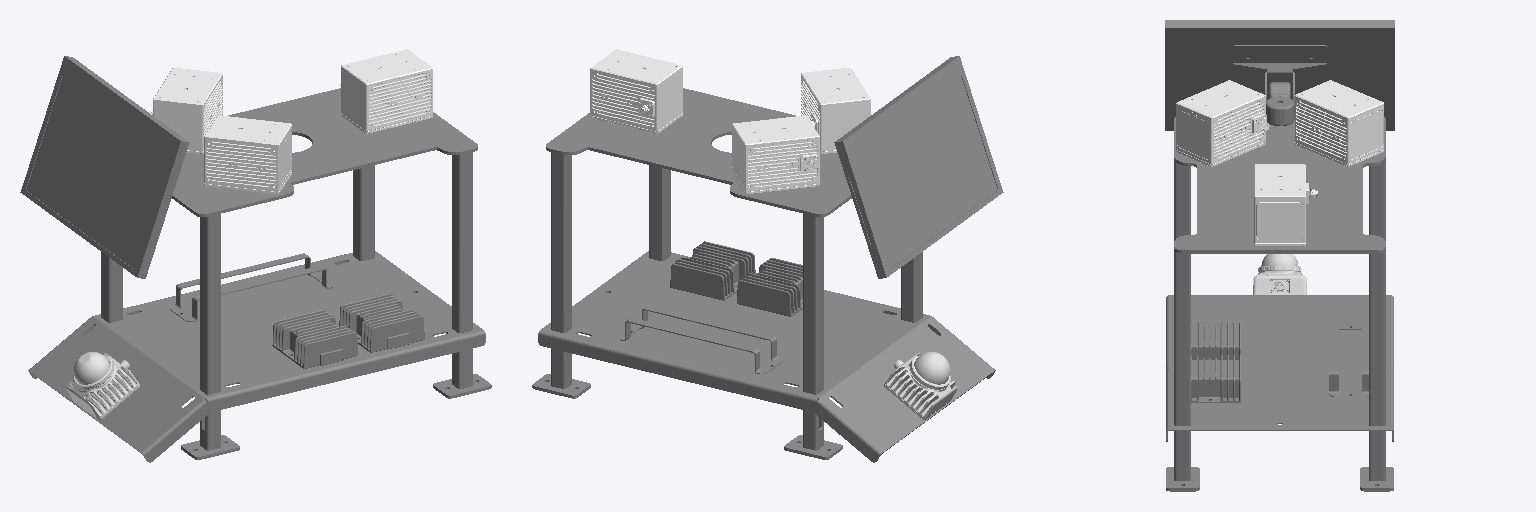
URDF robot description (bunker_mini):
<?xml version="1.0"?>
<robot  name="bunker_mini">
 
  <link
    name="bunker_link">
    <visual>
      <origin
        xyz="0.53 -0.392 -0.358"
        rpy="1.57 0 3.14" />
      <geometry>
        <mesh
          filename="package://dlio_loc/meshes/BUNKER.STL" scale="0.001 0.001 0.001" />
      </geometry>
      <material
        name="Gray">
        <color
          rgba="0.3 0.3 0.3 1" />
      </material>
    </visual>
  </link>

 <link
    name="wheel1_Link">
    <visual>
      <origin
        xyz="0 0 0"
        rpy="0 0 0" />
      <geometry>
        <mesh
          filename="package://dlio_loc/meshes/wheel1_Link.STL" />
      </geometry>
      <material
        name="">
        <color
          rgba="1 1 1 1" />
      </material>
    </visual>
</link>

<joint
    name="wheel1_joint"
    type="fixed">
    <origin
      xyz="0.44403 0.3495 -0.12853"
      rpy="1.5708 0 -3.1416" />
    <parent
      link="bunker_link" />
    <child
      link="wheel1_Link" />
    <axis
      xyz="0 0 1" />
  </joint>


<link
    name="wheel1_1_Link">
    <visual>
      <origin
        xyz="0 0 0"
        rpy="0 0 0" />
      <geometry>
        <mesh
          filename="package://dlio_loc/meshes/wheel1.1_Link.STL" />
      </geometry>
      <material
        name="">
        <color
          rgba="1 1 1 1" />
      </material>
    </visual>
</link>

<joint
    name="wheel1_1_jont"
    type="fixed">
    <origin
      xyz="0.37551 0.3495 -0.22305"
      rpy="1.5708 0 -3.1416" />
    <parent
      link="bunker_link" />
    <child
      link="wheel1_1_Link" />
    <axis
      xyz="0 0 1" />
</joint>


<link
    name="wheel1_2_Link">
    <visual>
      <origin
        xyz="0 0 0"
        rpy="0 0 0" />
      <geometry>
        <mesh
          filename="package://dlio_loc/meshes/wheel1.2_Link.STL" />
      </geometry>
      <material
        name="">
        <color
          rgba="1 1 1 1" />
      </material>
    </visual>
</link>

<joint
    name="wheel1_2_joint"
    type="fixed">
    <origin
      xyz="0.29039 0.3495 -0.28104"
      rpy="1.5708 0 -3.1416" />
    <parent
      link="bunker_link" />
    <child
      link="wheel1_2_Link" />
    <axis
      xyz="0 0 1" />
  </joint>

<link
    name="wheel1_3_Link">

    <visual>
      <origin
        xyz="0 0 0"
        rpy="0 0 0" />
      <geometry>
        <mesh
          filename="package://dlio_loc/meshes/wheel1.3_Link.STL" />
      </geometry>
      <material
        name="">
        <color
          rgba="1 1 1 1" />
      </material>
    </visual>

  </link>
  <joint
    name="wheel1_3_joint"
    type="fixed">
    <origin
      xyz="0.29603 0.3495 -0.087"
      rpy="1.5708 0 -3.1416" />
    <parent
      link="bunker_link" />
    <child
      link="wheel1_3_Link" />
    <axis
      xyz="0 0 -1" />

  </joint>
  <link
    name="wheel2_Link">

    <visual>
      <origin
        xyz="0 0 0"
        rpy="0 0 0" />
      <geometry>
        <mesh
          filename="package://dlio_loc/meshes/wheel2_Link.STL" />
      </geometry>
      <material
        name="">
        <color
          rgba="1 1 1 1" />
      </material>
    </visual>

  </link>
  <joint
    name="wheel2_joint"
    type="fixed">
    <origin
      xyz="0.44403 -0.3495 -0.12853"
      rpy="1.5708 0 -3.1416" />
    <parent
      link="bunker_link" />
    <child
      link="wheel2_Link" />
    <axis
      xyz="0 0 -1" />

  </joint>
  <link
    name="wheel2_1_Link">

    <visual>
      <origin
        xyz="0 0 0"
        rpy="0 0 0" />
      <geometry>
        <mesh
          filename="package://dlio_loc/meshes/wheel2.1_Link.STL" />
      </geometry>
      <material
        name="">
        <color
          rgba="1 1 1 1" />
      </material>
    </visual>

  </link>
  <joint
    name="wheel2_1_joint"
    type="fixed">
    <origin
      xyz="0.37551 -0.3495 -0.22305"
      rpy="1.5708 0 -3.1416" />
    <parent
      link="bunker_link" />
    <child
      link="wheel2_1_Link" />
    <axis
      xyz="0 0 -1" />

  </joint>
  <link
    name="wheel2_2_Link">

    <visual>
      <origin
        xyz="0 0 0"
        rpy="0 0 0" />
      <geometry>
        <mesh
          filename="package://dlio_loc/meshes/wheel2.2_Link.STL" />
      </geometry>
      <material
        name="">
        <color
          rgba="1 1 1 1" />
      </material>
    </visual>

  </link>
  <joint
    name="wheel2_2_joint"
    type="fixed">
    <origin
      xyz="0.29039 -0.3495 -0.28104"
      rpy="1.5708 0 -3.1416" />
    <parent
      link="bunker_link" />
    <child
      link="wheel2_2_Link" />
    <axis
      xyz="0 0 -1" />

  </joint>
  <link
    name="wheel2.3_Link">

    <visual>
      <origin
        xyz="0 0 0"
        rpy="0 0 0" />
      <geometry>
        <mesh
          filename="package://dlio_loc/meshes/wheel2.3_Link.STL" />
      </geometry>
      <material
        name="">
        <color
          rgba="1 1 1 1" />
      </material>
    </visual>

  </link>
  <joint
    name="wheel2.3_joint"
    type="fixed">
    <origin
      xyz="0.29603 -0.3495 -0.087"
      rpy="1.5708 0 -3.1416" />
    <parent
      link="bunker_link" />
    <child
      link="wheel2.3_Link" />
    <axis
      xyz="0 0 1" />

  </joint>
  <link
    name="wheel3_Link">

    <visual>
      <origin
        xyz="0 0 0"
        rpy="0 0 0" />
      <geometry>
        <mesh
          filename="package://dlio_loc/meshes/wheel3_Link.STL" />
      </geometry>
      <material
        name="">
        <color
          rgba="1 1 1 1" />
      </material>
    </visual>

  </link>
  <joint
    name="wheel3_joint"
    type="fixed">
    <origin
      xyz="-0.38871 0.295 -0.19381"
      rpy="1.5708 0 -3.1416" />
    <parent
      link="bunker_link" />
    <child
      link="wheel3_Link" />
    <axis
      xyz="0 0 -1" />

  </joint>
  <link
    name="wheel3.1_Link">

    <visual>
      <origin
        xyz="0 0 0"
        rpy="0 0 0" />
      <geometry>
        <mesh
          filename="package://dlio_loc/meshes/wheel3.1_Link.STL" />
      </geometry>
      <material
        name="">
        <color
          rgba="1 1 1 1" />
      </material>
    </visual>

  </link>
  <joint
    name="wheel3.1_joint"
    type="fixed">
    <origin
      xyz="-0.23111 0.3495 -0.27671"
      rpy="1.5708 0 -3.1416" />
    <parent
      link="bunker_link" />
    <child
      link="wheel3.1_Link" />
    <axis
      xyz="0 0 1" />

  </joint>
  <link
    name="wheel3.2_Link">

    <visual>
      <origin
        xyz="0 0 0"
        rpy="0 0 0" />
      <geometry>
        <mesh
          filename="package://dlio_loc/meshes/wheel3.2_Link.STL" />
      </geometry>
      <material
        name="">
        <color
          rgba="1 1 1 1" />
      </material>
    </visual>

  </link>
  <joint
    name="wheel3.2_joint"
    type="fixed">
    <origin
      xyz="0.043885 0.3495 -0.27671"
      rpy="1.5708 0 -3.1416" />
    <parent
      link="bunker_link" />
    <child
      link="wheel3.2_Link" />
    <axis
      xyz="0 0 1" />

  </joint>
  <link
    name="wheel3.3_Link">

    <visual>
      <origin
        xyz="0 0 0"
        rpy="0 0 0" />
      <geometry>
        <mesh
          filename="package://dlio_loc/meshes/wheel3.3_Link.STL" />
      </geometry>
      <material
        name="">
        <color
          rgba="1 1 1 1" />
      </material>
    </visual>

  </link>
  <joint
    name="wheel3.3_joint"
    type="fixed">
    <origin
      xyz="-0.28597 0.3495 -0.087"
      rpy="1.5708 0 -3.1416" />
    <parent
      link="bunker_link" />
    <child
      link="wheel3.3_Link" />
    <axis
      xyz="0 0 -1" />

  </joint>
  <link
    name="wheel4_Link">

    <visual>
      <origin
        xyz="0 0 0"
        rpy="0 0 0" />
      <geometry>
        <mesh
          filename="package://dlio_loc/meshes/wheel4_Link.STL" />
      </geometry>
      <material
        name="">
        <color
          rgba="1 1 1 1" />
      </material>
    </visual>

  </link>
  <joint
    name="wheel4_joint"
    type="fixed">
    <origin
      xyz="-0.38871 -0.295 -0.19381"
      rpy="1.5708 0 -3.1416" />
    <parent
      link="bunker_link" />
    <child
      link="wheel4_Link" />
    <axis
      xyz="0 0 1" />

  </joint>
  <link
    name="wheel4.1_Link">

    <visual>
      <origin
        xyz="0 0 0"
        rpy="0 0 0" />
      <geometry>
        <mesh
          filename="package://dlio_loc/meshes/wheel4.1_Link.STL" />
      </geometry>
      <material
        name="">
        <color
          rgba="1 1 1 1" />
      </material>
    </visual>

  </link>
  <joint
    name="wheel4.1_joint"
    type="fixed">
    <origin
      xyz="-0.23111 -0.3495 -0.27671"
      rpy="1.5708 0 -3.1416" />
    <parent
      link="bunker_link" />
    <child
      link="wheel4.1_Link" />
    <axis
      xyz="0 0 -1" />

  </joint>
  <link
    name="wheel4.2_Link">

    <visual>
      <origin
        xyz="0 0 0"
        rpy="0 0 0" />
      <geometry>
        <mesh
          filename="package://dlio_loc/meshes/wheel4.2_Link.STL" />
      </geometry>
      <material
        name="">
        <color
          rgba="1 1 1 1" />
      </material>
    </visual>

  </link>
  <joint
    name="wheel4.2_joint"
    type="fixed">
    <origin
      xyz="0.043885 -0.3495 -0.27671"
      rpy="1.5708 0 -3.1416" />
    <parent
      link="bunker_link" />
    <child
      link="wheel4.2_Link" />
    <axis
      xyz="0 0 -1" />

  </joint>
  <link
    name="wheel4.3_Link">
    <visual>
      <origin
        xyz="0 0 0"
        rpy="0 0 0" />
      <geometry>
        <mesh
          filename="package://dlio_loc/meshes/wheel4.3_Link.STL" />
      </geometry>
      <material
        name="">
        <color
          rgba="1 1 1 1" />
      </material>
    </visual>

  </link>
  <joint
    name="wheel4.3_joint"
    type="fixed">
    <origin
      xyz="-0.28597 -0.3495 -0.087"
      rpy="1.5708 0 -3.1416" />
    <parent
      link="bunker_link" />
    <child
      link="wheel4.3_Link" />
    <axis
      xyz="0 0 1" />

  </joint>


  <link name="zhijia_link">
    <visual>
      <origin xyz="0 0 0" rpy="0 0 0"/>
      <geometry>
          <mesh 
          filename="package://dlio_loc/meshes/zhijia.stl" scale="1.4 1.4 1.4"/>
      </geometry>
        <material name="black">
          <color rgba="0.6 0.6 0.6 1" /> 
        </material>
    </visual>
  </link>
    
  <joint name="zhijia_joint" type="fixed">
      <parent link="bunker_link" />
      <child link="zhijia_link" />
      <origin xyz="0.05 0.0 0.255" />
  </joint>

  <link name="avia1_link">
    <visual>
      <origin xyz="0 0 0" rpy="1.57079 0 3.14159"/>
      <geometry>
          <mesh 
          filename="package://dlio_loc/meshes/avia.stl" scale="1.4 1.4 1.4"/>
      </geometry>
        <material name="glay2">
          <color rgba="1 1 1 1" /> 
        </material>
    </visual>
  </link>
    
  <joint name="avia1_joint" type="fixed">
      <parent link="bunker_link" />
      <child link="avia1_link" />
      <origin xyz="0.27 0.0 0.48" />
  </joint>

  <link name="avia2_link">
    <visual>
      <origin xyz="0 0 0" rpy="1.57079 0 2.356194"/>
      <geometry>
          <mesh 
          filename="package://dlio_loc/meshes/avia.stl" scale="1.4 1.4 1.4"/>
      </geometry>
        <material name="glay2">
          <color rgba="1 1 1 1" /> 
        </material>
    </visual>
  </link>
    
  <joint name="avia2_joint" type="fixed">
      <parent link="bunker_link" />
      <child link="avia2_link" />
      <origin xyz="-0.05 -0.10 0.48" />
  </joint>

  <link name="avia3_link">
    <visual>
      <origin xyz="0 0 0" rpy="1.57079 0 3.92699"/>
      <geometry>
          <mesh 
          filename="package://dlio_loc/meshes/avia.stl" scale="1.4 1.4 1.4"/>
      </geometry>
        <material name="glay2">
          <color rgba="1 1 1 1" /> 
        </material>
    </visual>
  </link>
    
  <joint name="avia3_joint" type="fixed">
      <parent link="bunker_link" />
      <child link="avia3_link" />
      <origin xyz="-0.05 0.10 0.48" />
  </joint>

  <link name="mid360_link">
    <visual>
      <origin xyz="0 0 0" rpy="1.57079 -0.52359 0"/>
      <geometry>
          <mesh 
          filename="package://dlio_loc/meshes/mid360.stl" scale="1.4 1.4 1.4"/>
      </geometry>
        <material name="glay3">
          <color rgba="0.9 0.9 0.9 1" /> 
        </material>
    </visual>
  </link>
    
  <joint name="mid360_joint" type="fixed">
      <parent link="bunker_link" />
      <child link="mid360_link" />
      <origin xyz="-0.28 0.0 0.09" />
  </joint>

  <link name="camera_link">
    <visual>
      <origin xyz="0 0 0" rpy="0 0 0"/>
      <geometry>
          <mesh 
          filename="package://dlio_loc/meshes/camera1_Link.STL" scale="1.4 1.4 1.4"/>
      </geometry>
        <material name="glay3">
          <color rgba="0.9 0.9 0.9 1" /> 
        </material>
    </visual>
  </link>
    
  <joint name="camera_joint" type="fixed">
      <parent link="bunker_link" />
      <child link="camera_link" />
      <origin xyz="0.29 0.0 0.12" />
  </joint>

  <!-- <link name="base_footprint"/>

  <joint name="base_joint" type="fixed">
    <parent link="base_footprint"/>
    <child link="bunker_link"/>
    <origin xyz="0.0 0.0 0.355" rpy="0 0 0"/>
  </joint> -->


  <!-- /////////////////////////////////   gazebo color   ////////////////////////////////////// -->

 <!-- <gazebo reference="bunker_link">
     <material>Gazebo/Gray</material>
  </gazebo>
  <gazebo>
    <plugin name="object_controller" filename="libgazebo_ros_planar_move.so">
      <commandTopic>cmd_vel</commandTopic>
      <odometryTopic>odom</odometryTopic>
      <odometryFrame>odom</odometryFrame>
      <odometryRate>20.0</odometryRate>
      <leftFrontJoint>wheel1_2_joint</leftFrontJoint>
      <rightFrontJoint>wheel2_2_joint</rightFrontJoint>
      <leftRearJoint>wheel3_1_joint</leftRearJoint>
      <rightRearJoint>wheel4_1_joint</rightRearJoint>
      <robotBaseFrame>bunker_link</robotBaseFrame>
    </plugin>
  </gazebo> -->
  
  <!-- <gazebo>
    <plugin name="gazebo_ros2_control" filename="libgazebo_ros2_control.so"> -->
      <!-- <robotNamespace>/</robotNamespace> -->
      <!-- <robot_sim_type>gazebo_ros2_control/GazeboSystem</robot_sim_type>
    </plugin>
  </gazebo> -->


</robot>

--- Render facts (derived) ---
3 views of the same robot in one strip: view 1: azimuth 30°, elevation 25°; view 2: azimuth 150°, elevation 25°; view 3: azimuth 270°, elevation 25° (orthographic).
Robot: bunker_mini — 23 links, 22 joints (22 fixed); root link bunker_link; default pose: all joints at 0.
Visible links, largest first — view 1: zhijia_link, avia1_link, avia2_link, avia3_link, mid360_link; view 2: zhijia_link, avia1_link, avia3_link, avia2_link, mid360_link; view 3: zhijia_link, avia2_link, avia3_link, avia1_link, mid360_link.
Boxes of the visible links, x1,y1,x2,y2 form: zhijia_link: [20, 56, 491, 462]; avia1_link: [340, 49, 432, 133]; avia2_link: [204, 115, 291, 193]; avia3_link: [151, 68, 222, 153]; mid360_link: [66, 352, 139, 419]; zhijia_link: [532, 56, 1003, 462]; avia1_link: [590, 49, 682, 133]; avia3_link: [732, 115, 819, 193]; avia2_link: [801, 68, 870, 153]; mid360_link: [884, 352, 957, 419]; zhijia_link: [1165, 20, 1394, 491]; avia2_link: [1176, 80, 1269, 166]; avia3_link: [1295, 80, 1383, 166]; avia1_link: [1254, 164, 1317, 245]; mid360_link: [1253, 254, 1306, 294].
Size in the robot's own frame: 0.679 by 0.3822 by 0.5853 metres.
5 mesh visuals loaded from 21 distinct referenced files (3 binary STL); not drawn: 18 (reference not matched to a file when rendering).